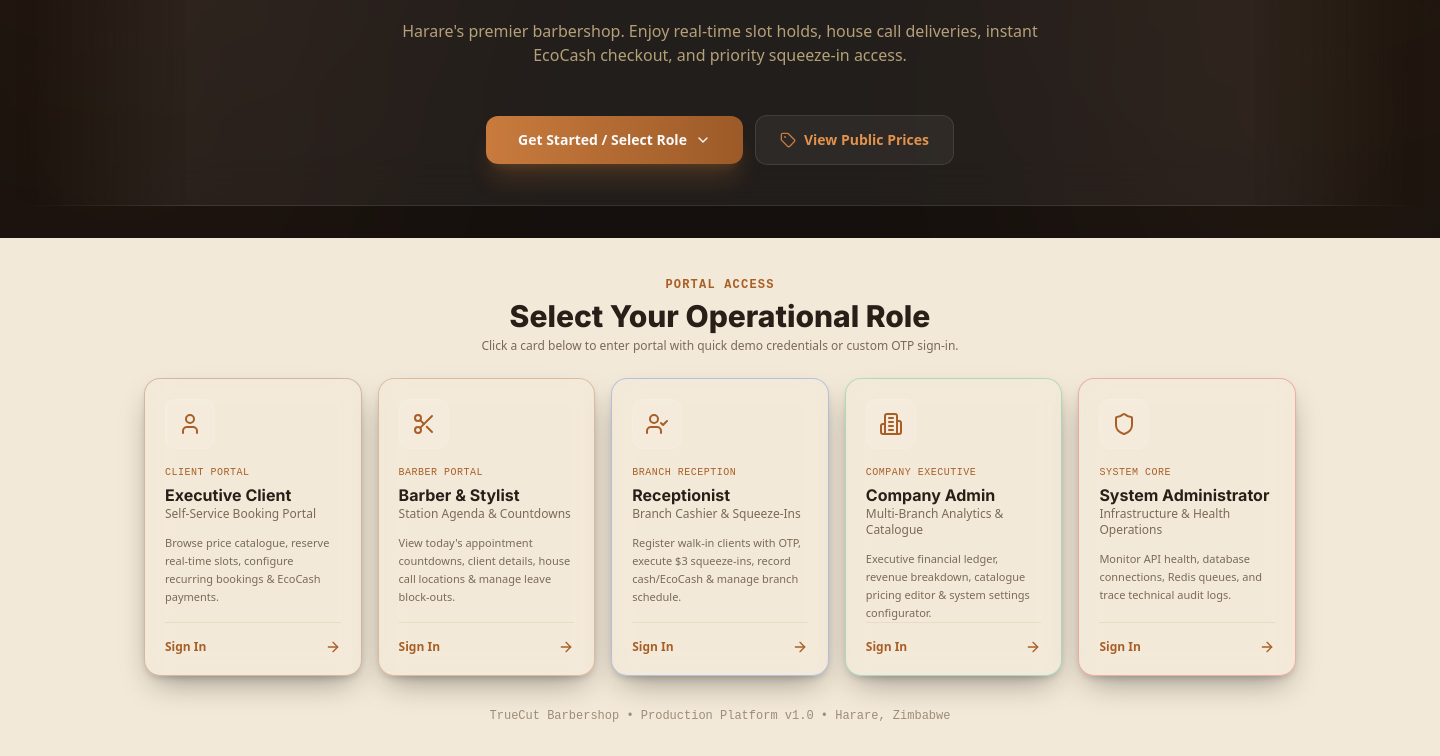
WelcomePage UI Component Tests › opens role login modal when a role card is clicked
(page scrolled)
Click the heading "Executive Client" at x=228, y=495, box [165,485,291,505]
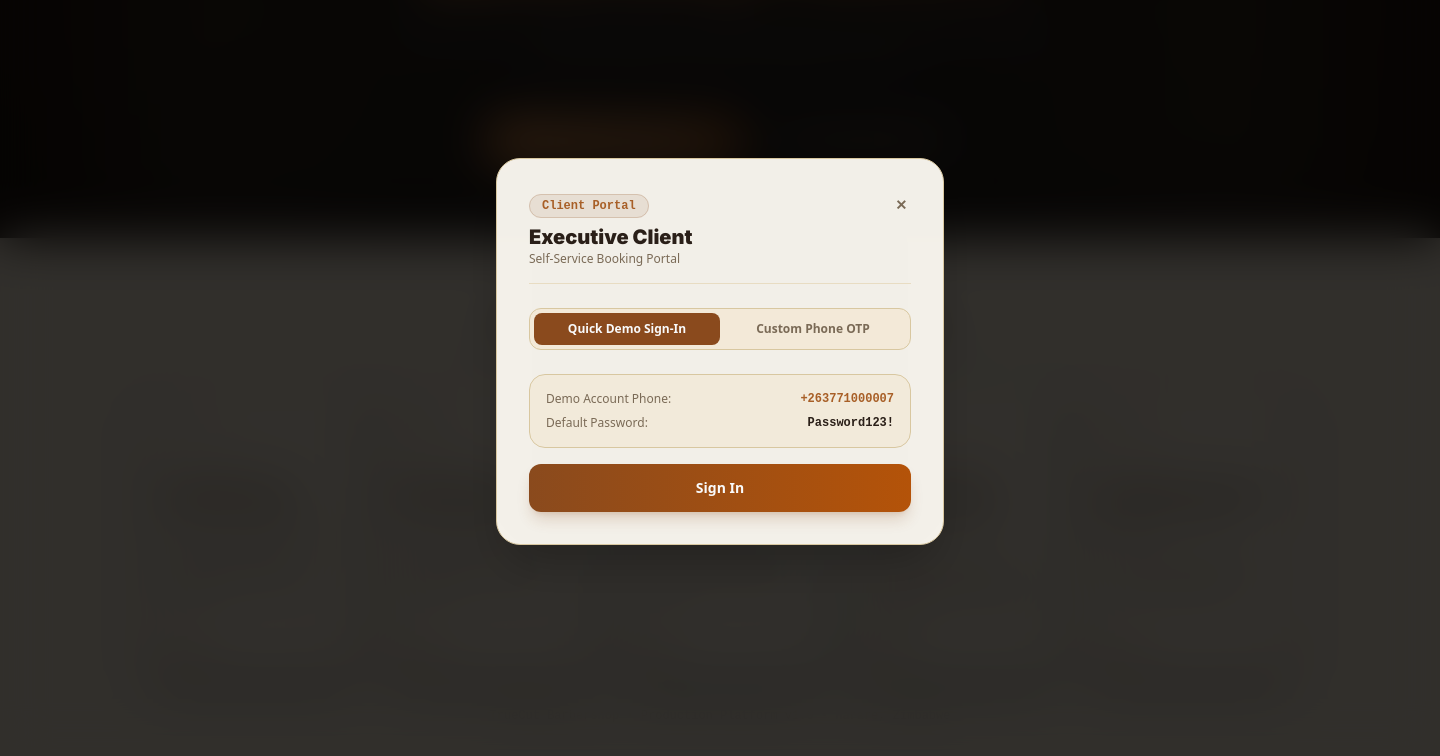
Expected: the button "Quick Demo Sign-In" is shown, [534,312,720,344]
Expected: the button "Custom Phone OTP" is shown, [720,312,906,344]
Expected: the text "+263771000007" is shown, [800,390,894,406]
